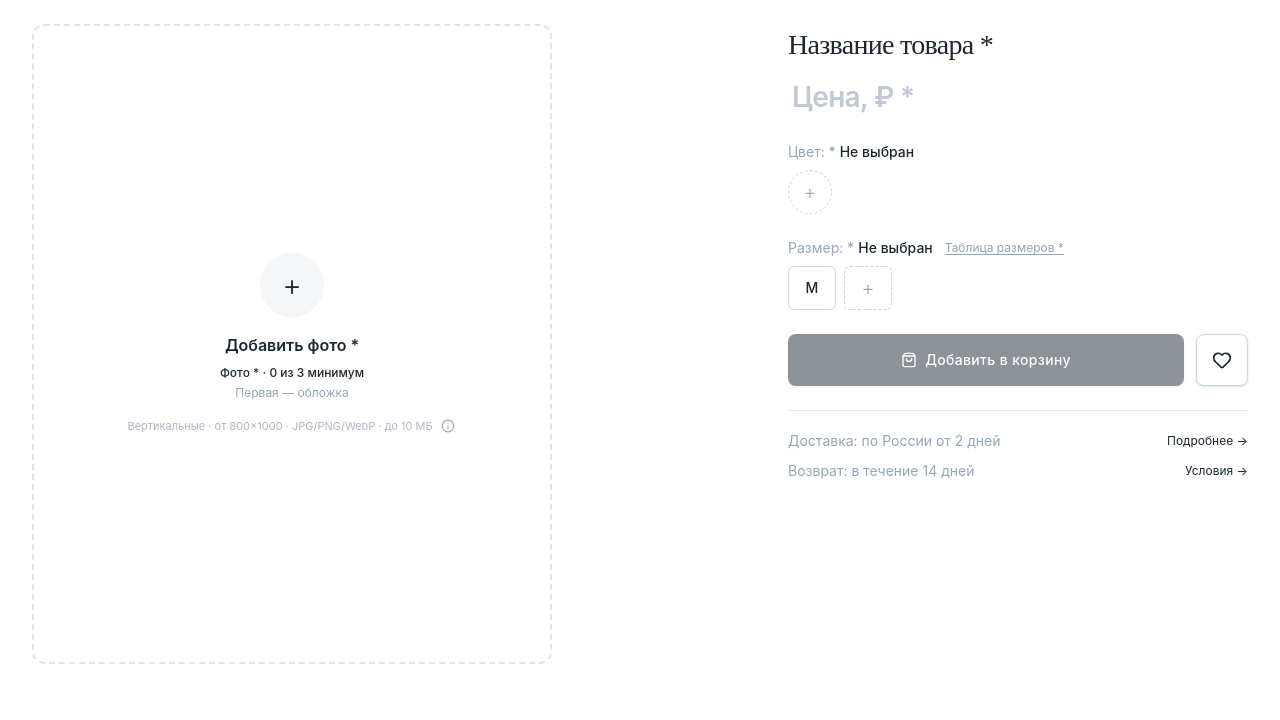
Test: PS.R4A.5B1 — Required Product Content + Canonical Characteristics UX › 5. Size Chart is CONDITIONALLY REQUIRED › clicking size chart required button opens real measurement editor, entering values and saving updates draft
Click the button with test id "size-chart-required-btn": [1004, 248] box [945,240,1064,256]
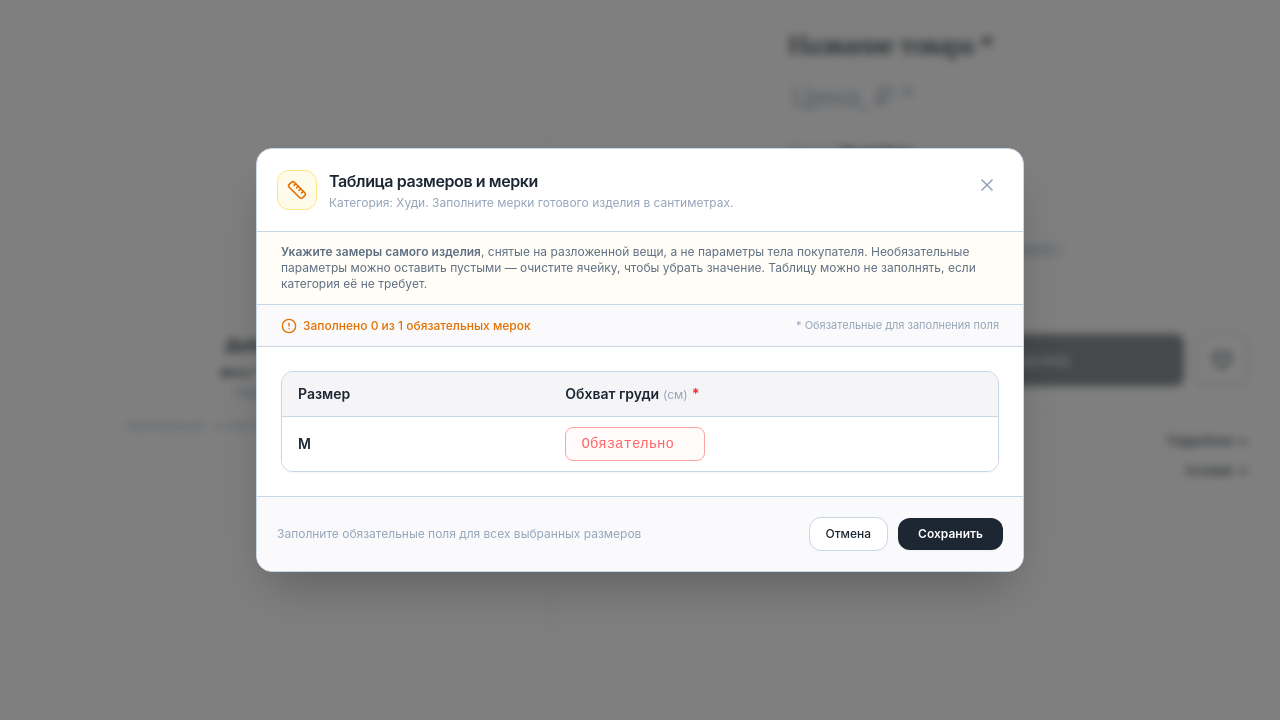
Expected: the element with test id "size-chart-modal" is shown
Expected: the heading "Таблица размеров и мерки" is shown, [329,171,538,191]
Expected: the number field with test id "measurement-input-sz-m-chest" is shown
Type measurement into required cell
In the number field with test id "measurement-input-sz-m-chest": [635, 444] box [565,427,705,461], type "104"
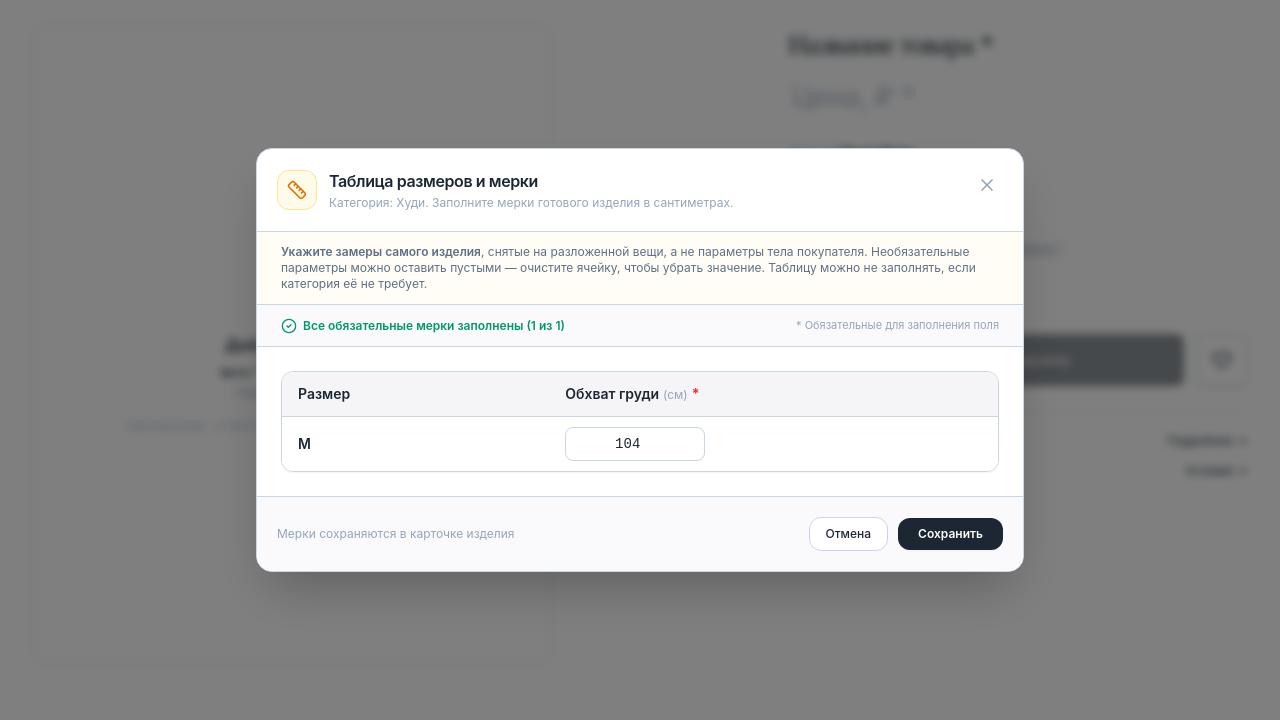
Click the button with test id "size-chart-modal-save": [951, 534] box [898,518,1003,550]
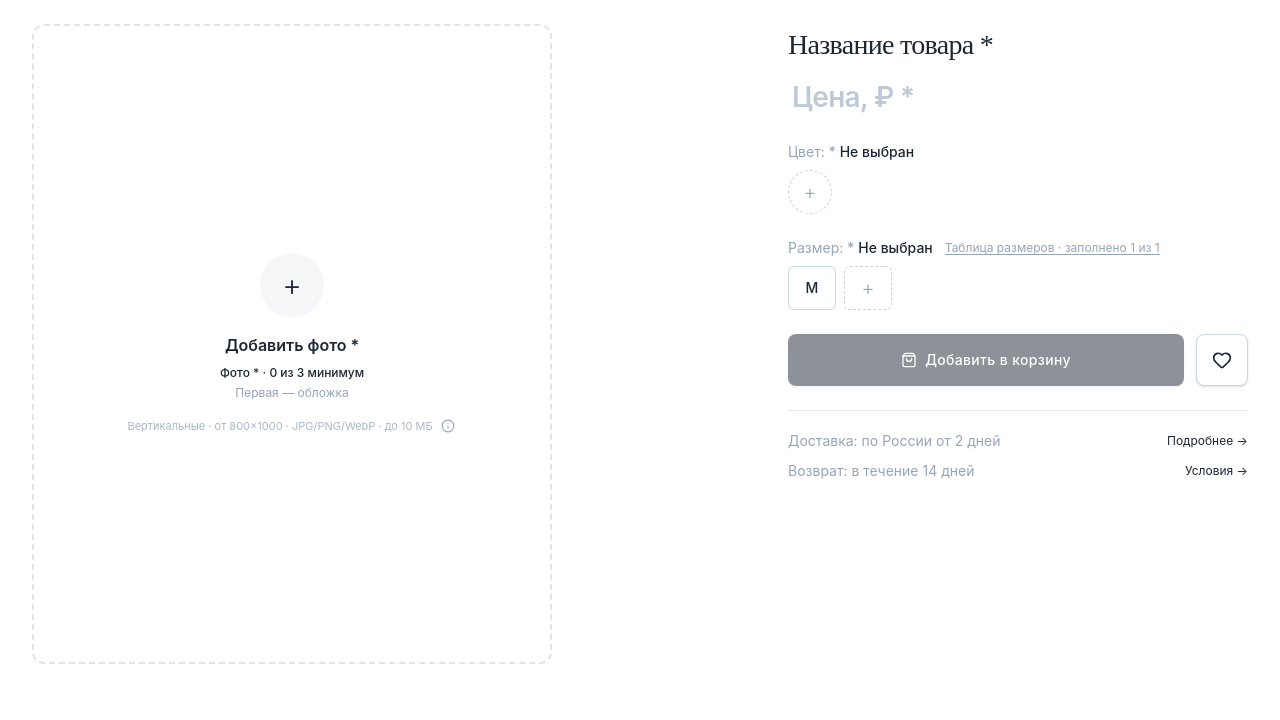
Expected: the element with test id "size-chart-modal" is gone
Expected: the button with test id "size-chart-btn" reads "Таблица размеров · заполнено 1 из 1", [945,240,1160,256]
